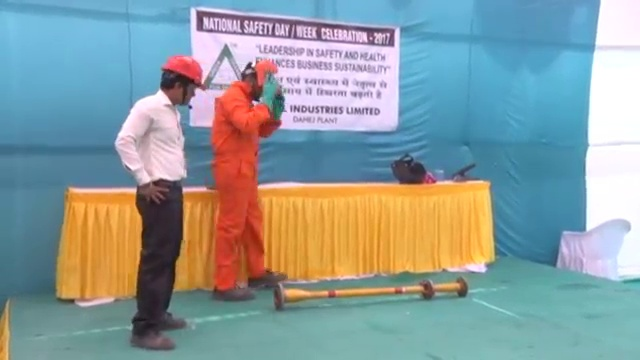helmet: (162, 53, 207, 90), (251, 56, 278, 87)
helmet_on: (155, 53, 207, 107), (241, 57, 280, 96)
person: (116, 53, 206, 348), (210, 54, 287, 300)
